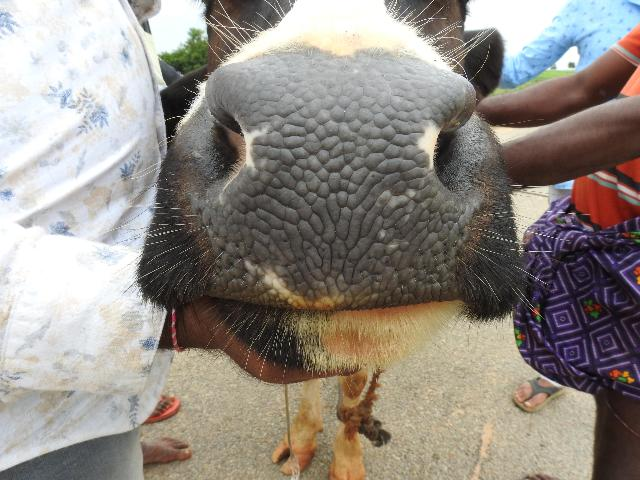Muzzle: (213, 60, 459, 304)
